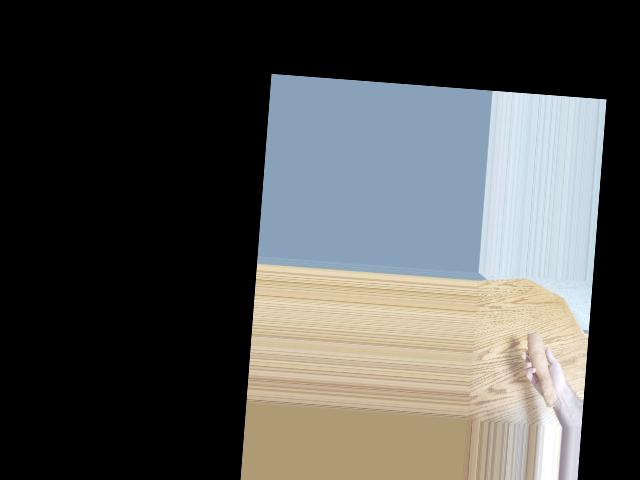sweet_potato: (520, 331, 562, 406)
